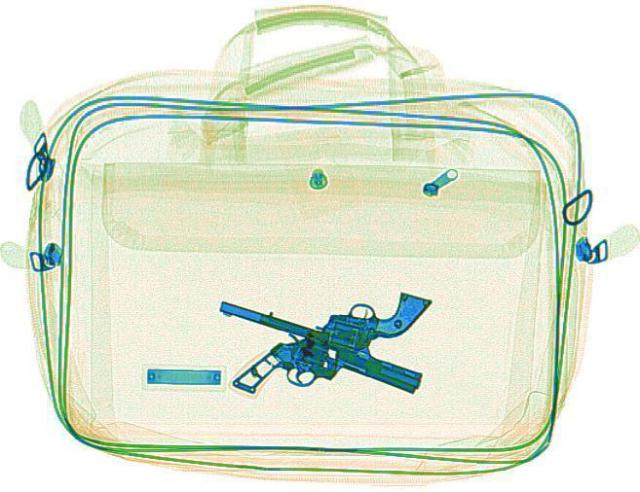Gun: (214, 241, 432, 367), (228, 321, 424, 436)
